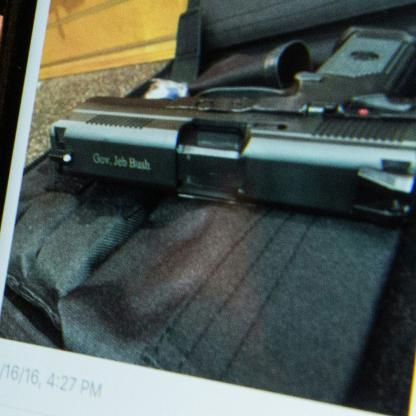gun: (69, 23, 416, 247)
